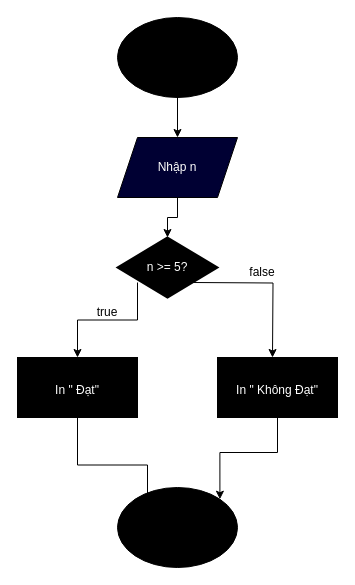
This 355x585 diagram has some shape labels left out. Here are the shapes that lost their labels. From the top down, the centre of each, then its label:
At [177,57]: "Start".
At [177,527]: "End".
